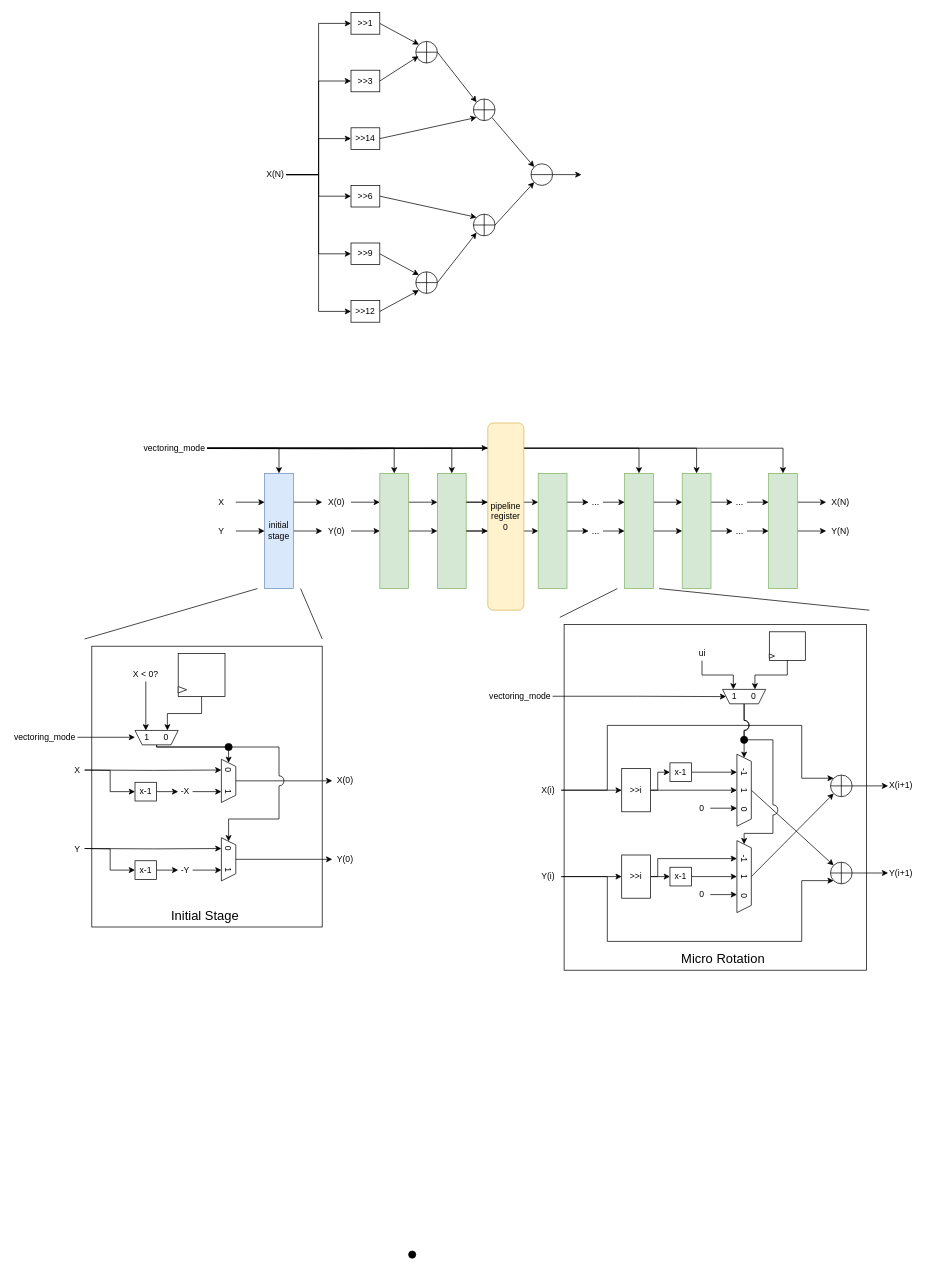
Image size: 926x1271. Some labels were removed from this diagram. Each missing label, with the box of its shape:
rotate_180 mem: (177, 653, 225, 697)
Stage 0: (379, 473, 409, 589)
Stage 1: (437, 473, 466, 589)
Stage 14: (768, 473, 797, 589)
Stage 2: (537, 473, 567, 589)
Stage i: (624, 473, 653, 589)
Stage i + 1: (681, 473, 711, 589)
ui_mem: (769, 631, 805, 661)
